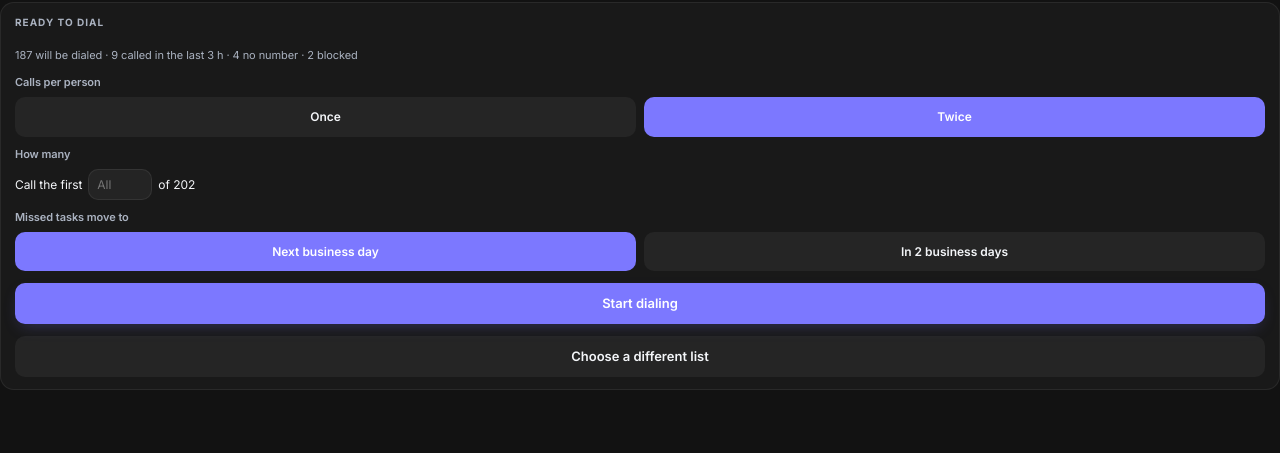
Test case: Ready to dial — run settings › a refused Start (400 naming a field) shows the server's message and leaves the Ready screen up
What coordinates should you click on to do the following:
click the button "Start dialing"
I would click on:
 (640, 304)
Its box is [15, 283, 1265, 324].
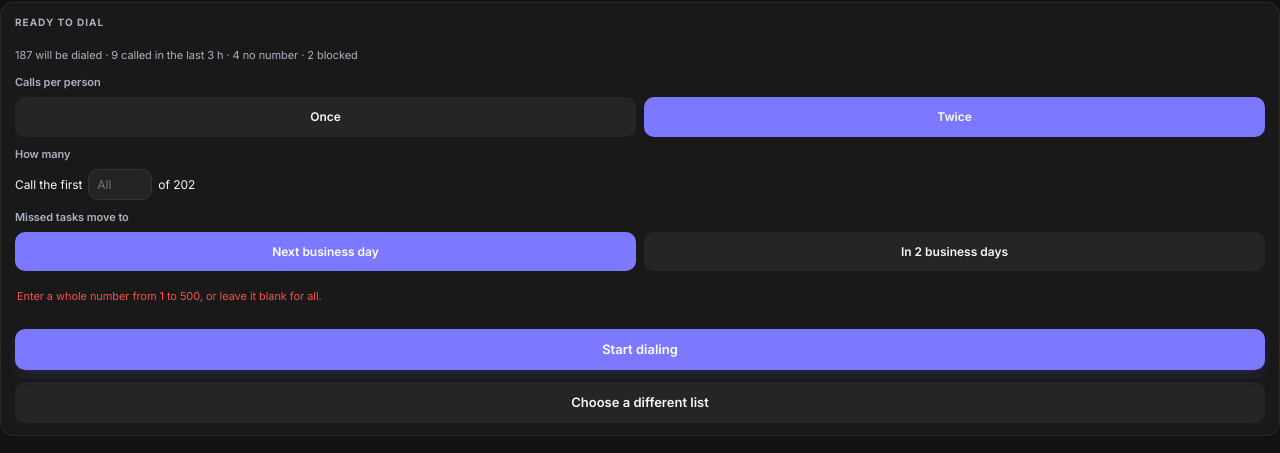
Expected: the button "Start dialing" is shown, [15, 329, 1265, 370]
Now the text "Enter a whole number from 1 to 500, or leave it blank for all." is shown, box [17, 289, 322, 303]
